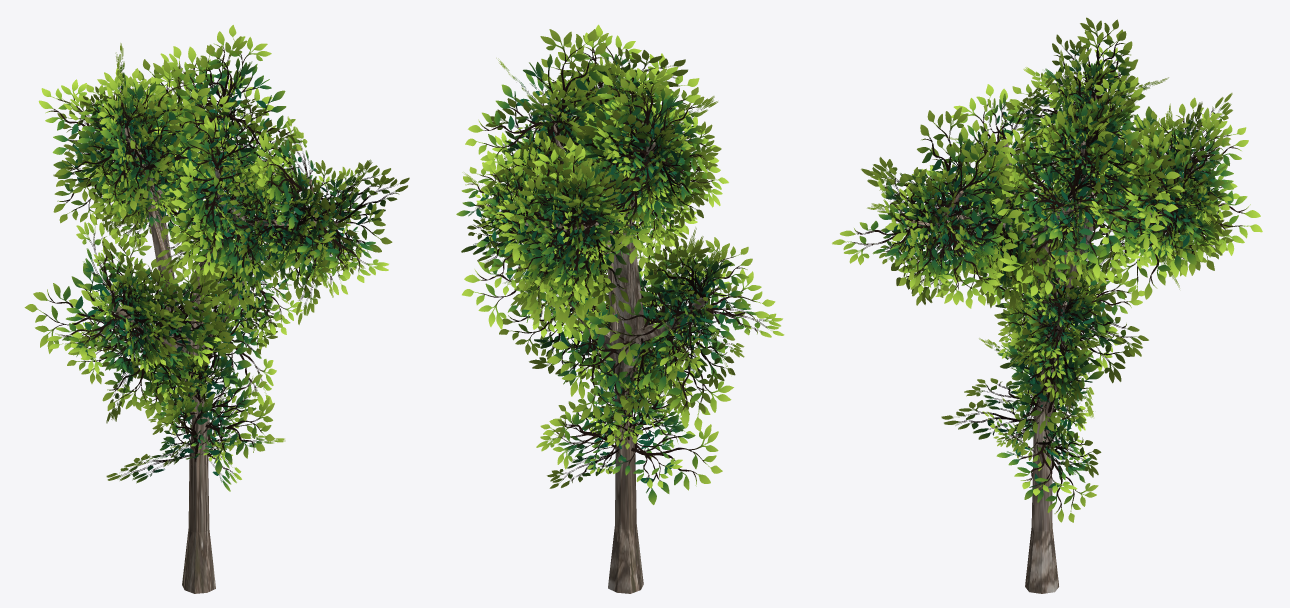
Rendered from tree01 1.fbx.
The picture shows the model from 3 angles, left to right: view 1: azimuth 30°, elevation 25°; view 2: azimuth 150°, elevation 25°; view 3: azimuth 270°, elevation 25°; orthographic projection. The views are drawn at different scales.
Visible parts, largest first — view 1: tree1; view 2: tree1; view 3: tree1.
Boxes of the visible parts, x1,y1,x2,y2 form: tree1: (24,25,409,593); tree1: (456,24,784,593); tree1: (832,17,1262,593).
Bounding box in the file's own units: 446 × 749 × 556.
2 materials, 2 textured.
